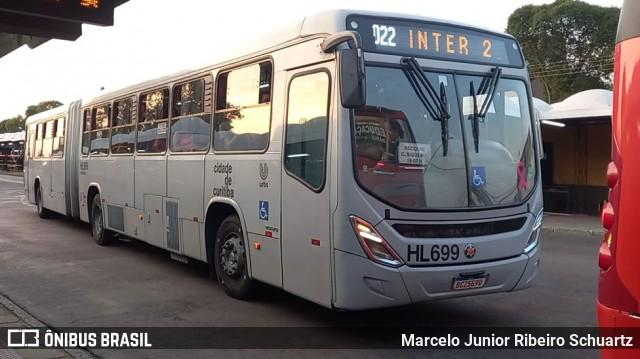INTER2: (403, 24, 496, 59)
